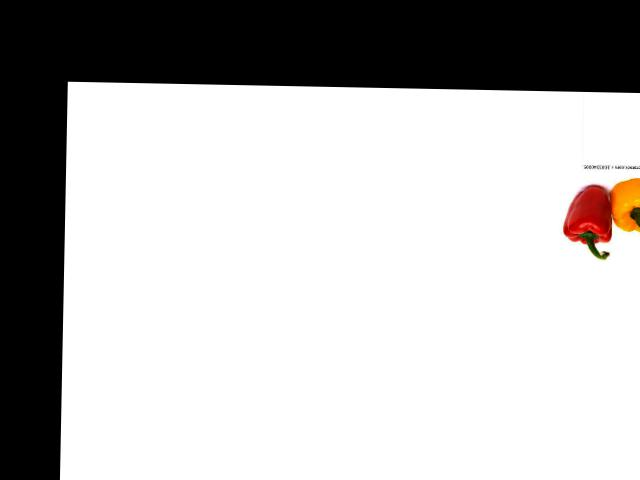bell_pepper: (607, 173, 640, 237)
